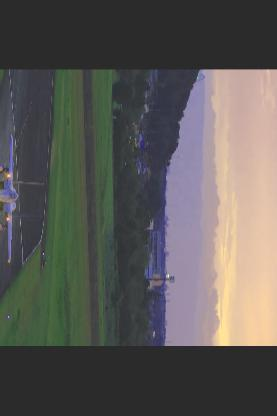F117: (0, 134, 44, 263)
